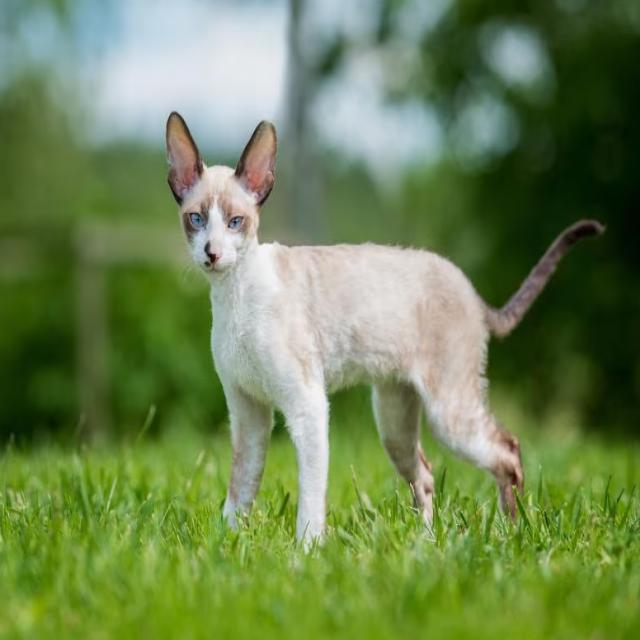Cornish Rex: (161, 107, 613, 566)
